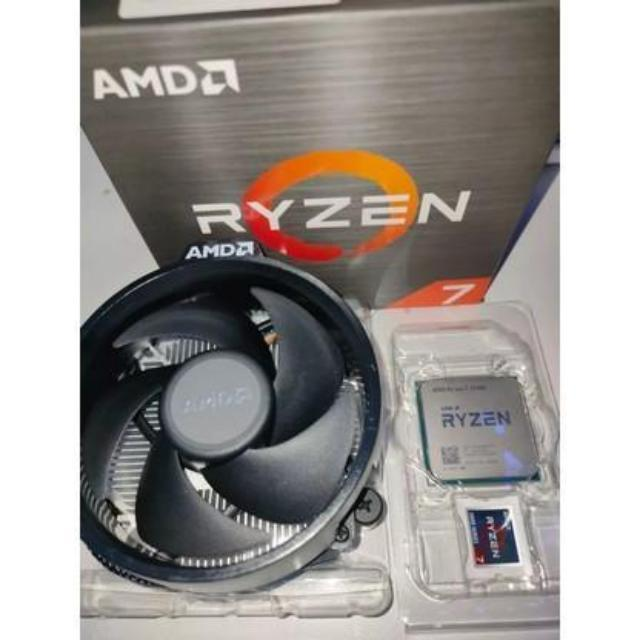CPU: (414, 372, 538, 481)
CPU_Fan: (80, 246, 382, 583)
